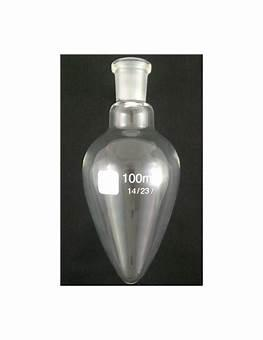Pear shaped flask: (68, 54, 186, 276)
